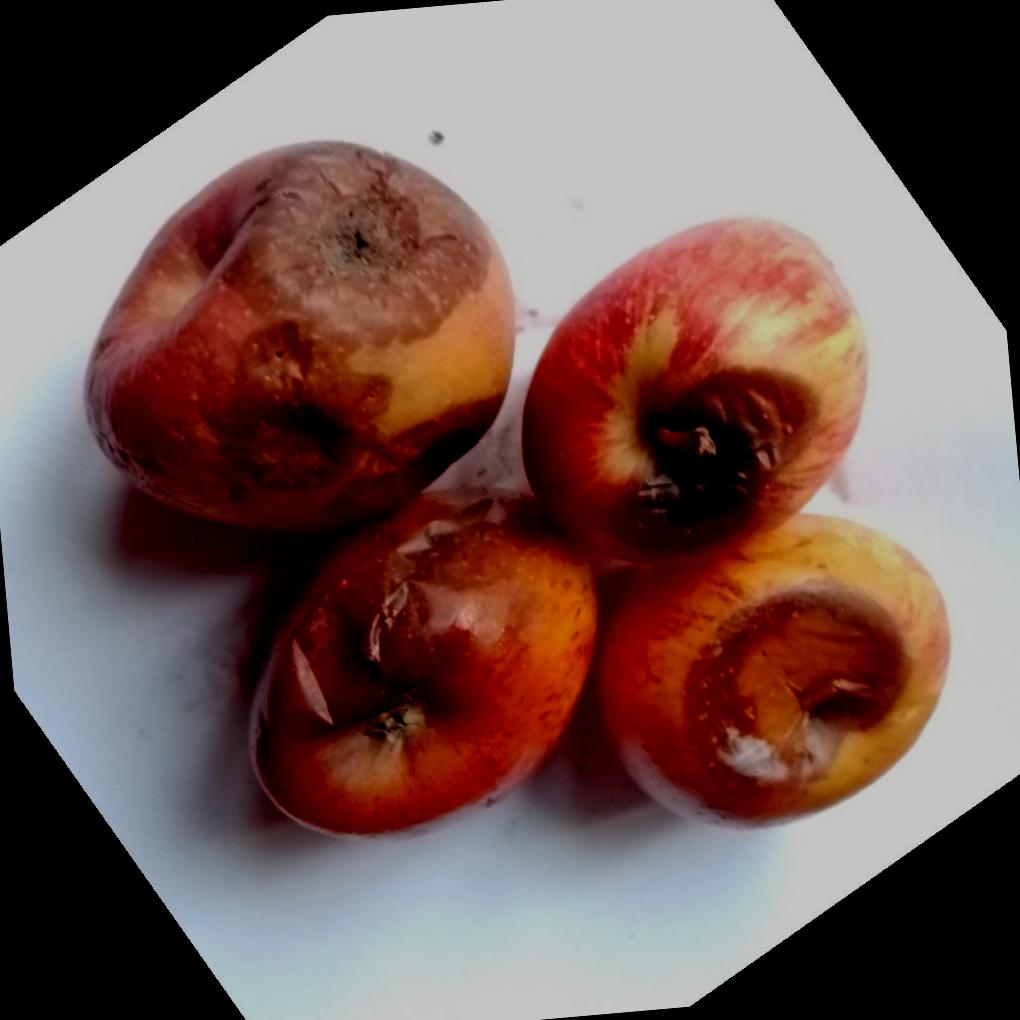FreshOrange: (88, 140, 954, 835)
